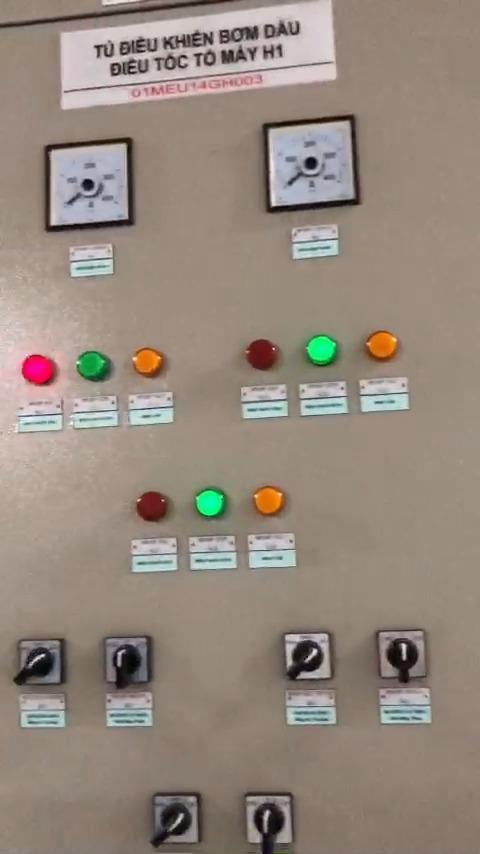led: (307, 332, 343, 368), (247, 338, 283, 373), (77, 350, 113, 385), (135, 490, 170, 525), (194, 485, 228, 521), (22, 355, 59, 388), (252, 484, 286, 519), (134, 345, 165, 379), (365, 331, 398, 361)
twist: (244, 792, 290, 848), (102, 635, 152, 686), (17, 636, 64, 688), (152, 794, 199, 844), (285, 634, 334, 680), (380, 632, 425, 682)
